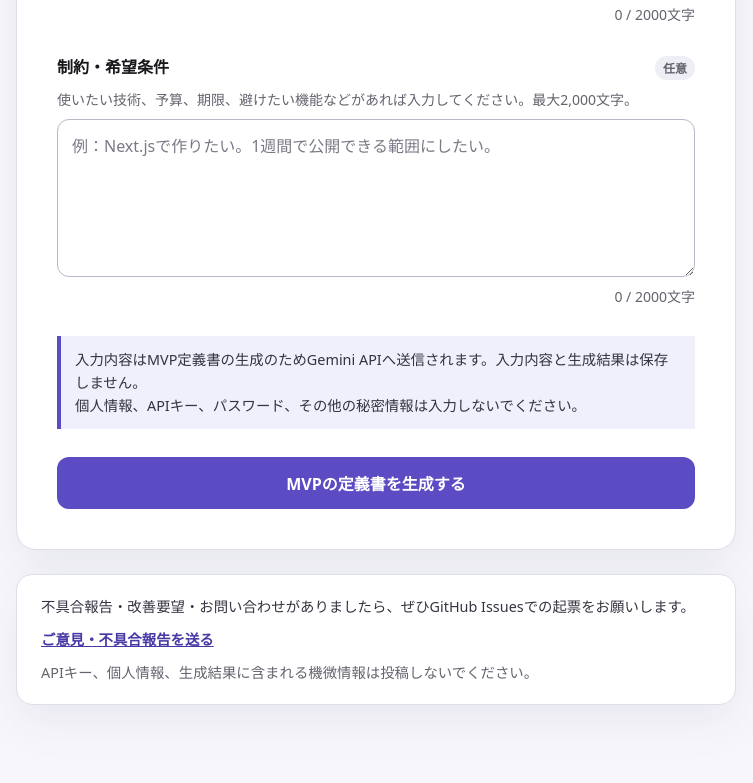
Test: Home › shows an associated error for an empty idea
(page scrolled)
Click the button "MVPの定義書を生成する": [376, 483] box [57, 457, 695, 509]
(page scrolled)
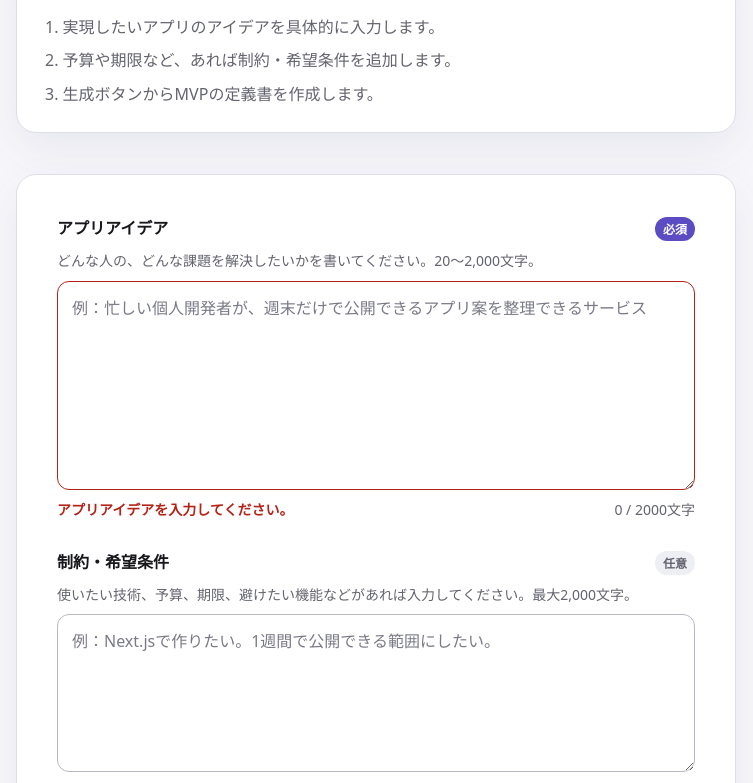
Expected: the message reads "アプリアイデアを入力してください。", [57, 500, 294, 519]
